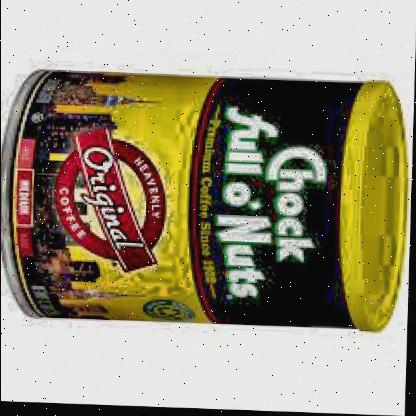Can: (1, 68, 410, 332)
